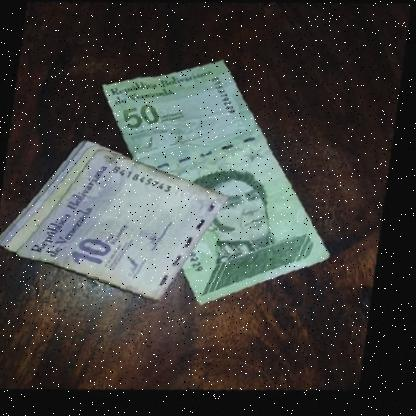fifty-front-vef: (89, 54, 345, 314)
